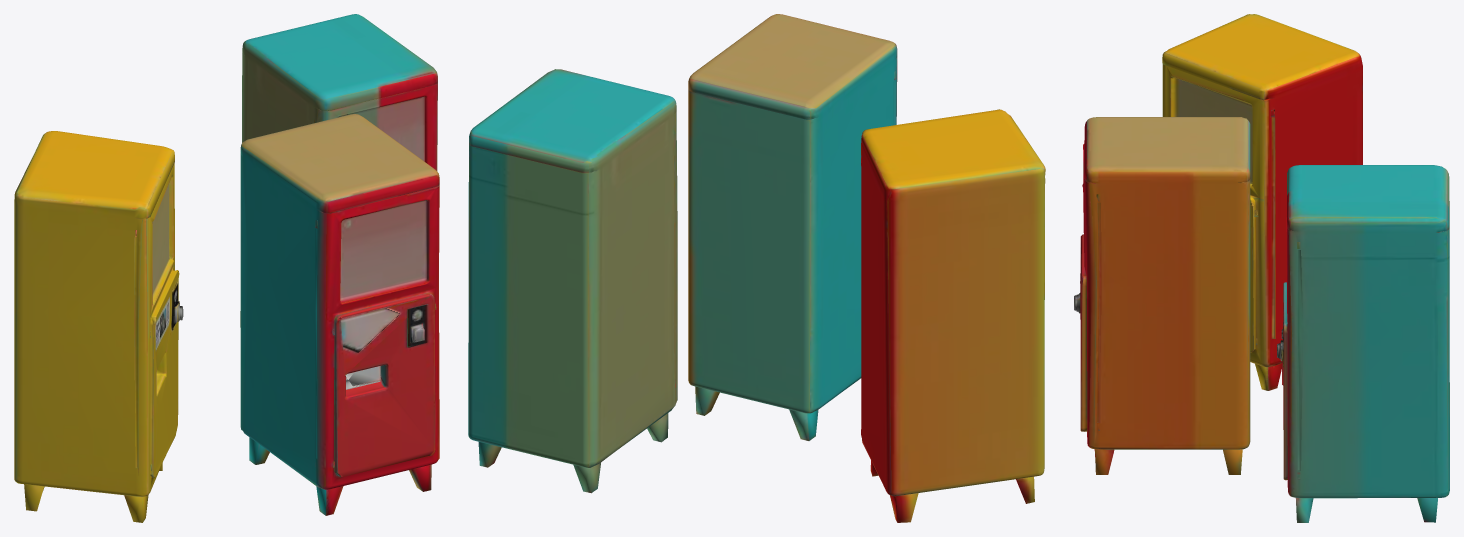
The model's file is news_box.glb.
The picture shows the model from 3 angles, left to right: view 1: azimuth 30°, elevation 25°; view 2: azimuth 150°, elevation 25°; view 3: azimuth 270°, elevation 25°; orthographic projection. The views are drawn at different scales.
Bounding box in the file's own units: 0.9575 × 0.6606 × 0.7295.
Materials: 1 (1 with a texture image).
